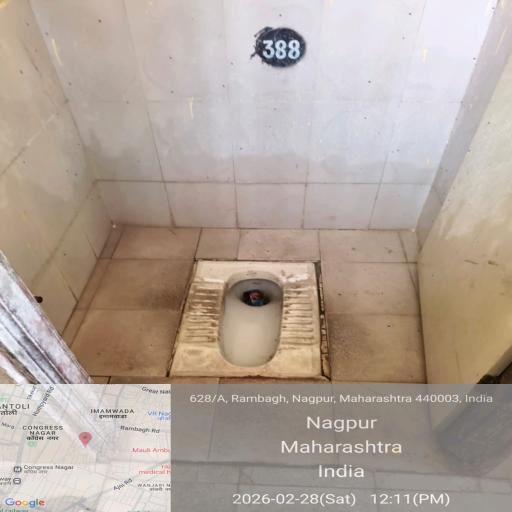dirty_floor: (39, 216, 506, 512)
dirty_indian: (155, 253, 347, 398)
partial_dirty_floor: (77, 32, 400, 172)
